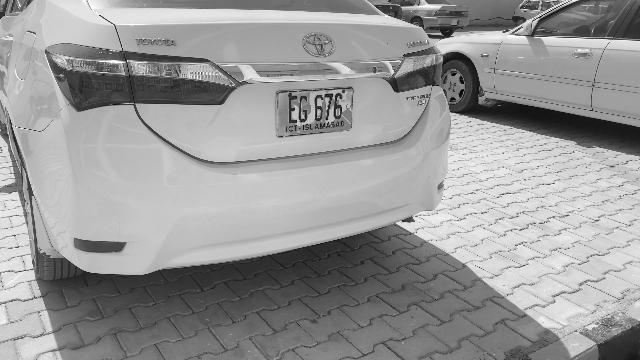Number: (284, 92, 350, 126)
